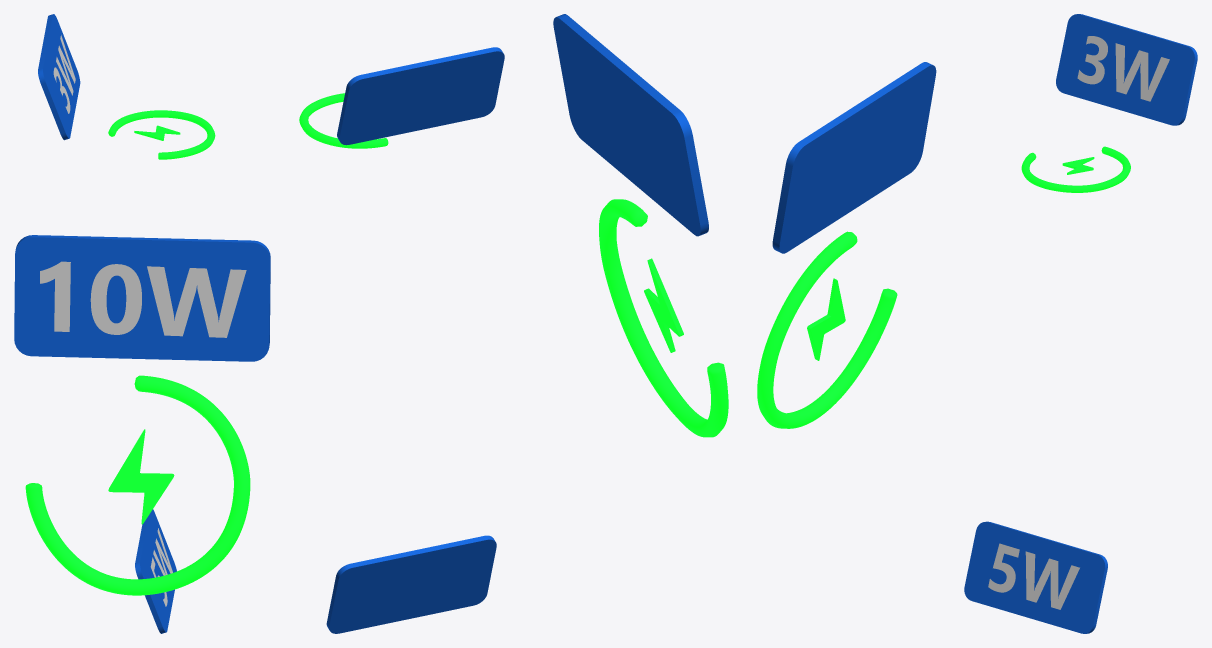
The model's file is Phone_Charger_ChargingSymbols.glb.
3 renders of one model, left to right at view 1: azimuth 30°, elevation 25°; view 2: azimuth 150°, elevation 25°; view 3: azimuth 270°, elevation 25°, orthographic. The views are drawn at different scales.
Visible parts, largest first — view 1: Cube.006, BezierCurve.001, Text, Cube.007, Cube.008, Plane.001, BezierCurve.002, Text.001, Text.002; view 2: Cube.006, Cube.008, Cube.007, BezierCurve.001, Plane.001, BezierCurve.002; view 3: Cube.006, Cube.008, Cube.007, BezierCurve.001, Text.002, Text.001, BezierCurve.002, Plane.001.
Part boxes in pixels (bbox=[...]): Cube.006: bbox=[14, 235, 270, 361]; BezierCurve.001: bbox=[25, 375, 250, 595]; Text: bbox=[40, 261, 246, 337]; Cube.007: bbox=[38, 14, 80, 140]; Cube.008: bbox=[135, 509, 176, 633]; Plane.001: bbox=[108, 429, 174, 524]; BezierCurve.002: bbox=[108, 110, 215, 159]; Text.001: bbox=[53, 35, 75, 113]; Text.002: bbox=[150, 528, 172, 606]; Cube.006: bbox=[553, 14, 708, 236]; Cube.008: bbox=[326, 535, 496, 633]; Cube.007: bbox=[337, 47, 504, 145]; BezierCurve.001: bbox=[599, 199, 728, 437]; Plane.001: bbox=[644, 258, 683, 352]; BezierCurve.002: bbox=[299, 93, 388, 148]; Cube.006: bbox=[772, 62, 936, 253]; Cube.008: bbox=[964, 521, 1107, 633]; Cube.007: bbox=[1056, 14, 1197, 125]; BezierCurve.001: bbox=[757, 231, 897, 428]; Text.002: bbox=[988, 543, 1079, 609]; Text.001: bbox=[1077, 36, 1169, 101]; BezierCurve.002: bbox=[1021, 146, 1130, 192]; Plane.001: bbox=[807, 278, 845, 360].
Size of the model in its own units: 3.33 by 6.34 by 4.57.
